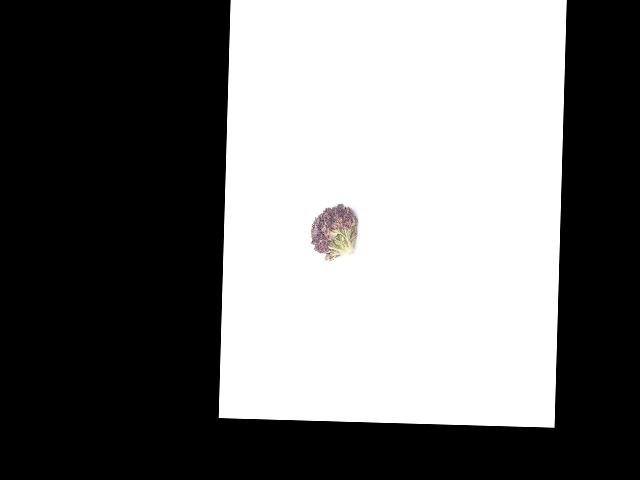lettuce: (308, 200, 361, 258)
